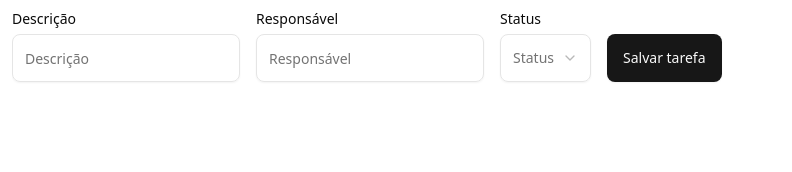
Test: FormInsert › should show validation error for empty description
Click the button "Salvar tarefa": (664, 58) [607,34,722,82]
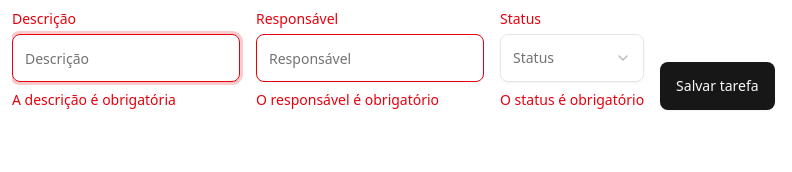
Expected: the text "A descrição é obrigatória" is shown, [12,90,176,109]
